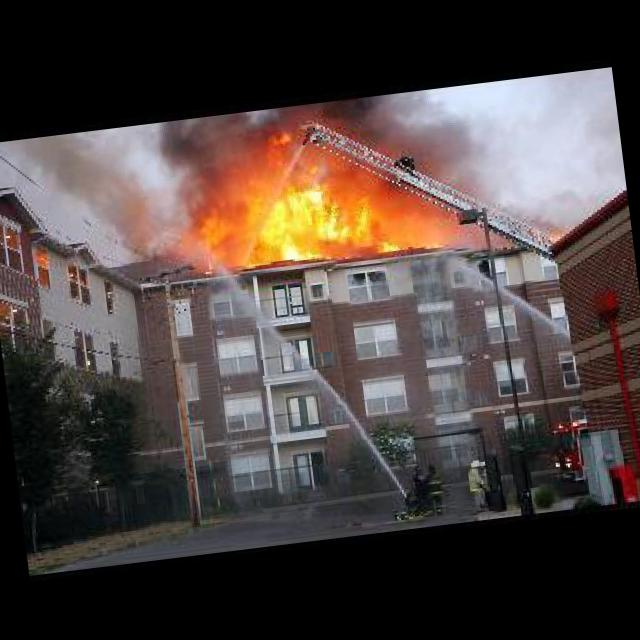Fire: (168, 107, 414, 278)
Smoke: (36, 126, 173, 268)
